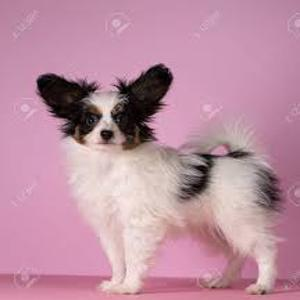yell: (36, 62, 278, 293)
